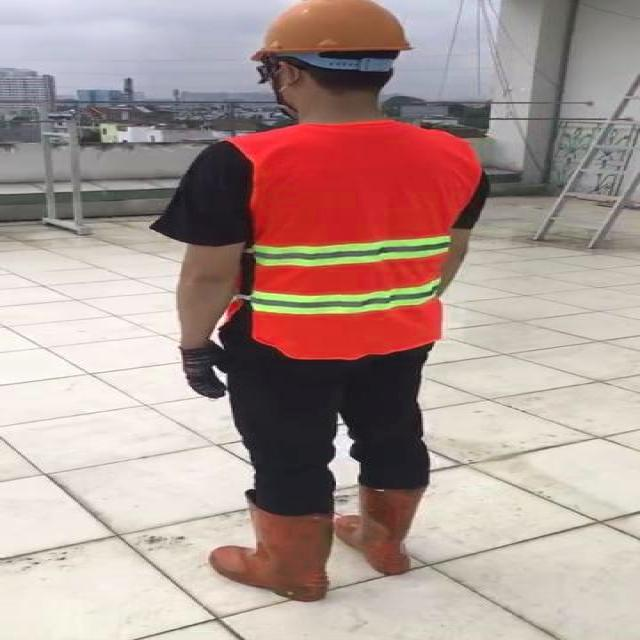boots: (210, 496, 338, 603), (338, 484, 432, 577)
hand_glove: (183, 345, 233, 398)
head_helmet: (153, 0, 489, 640), (239, 0, 415, 61)
vest: (233, 121, 482, 358)
